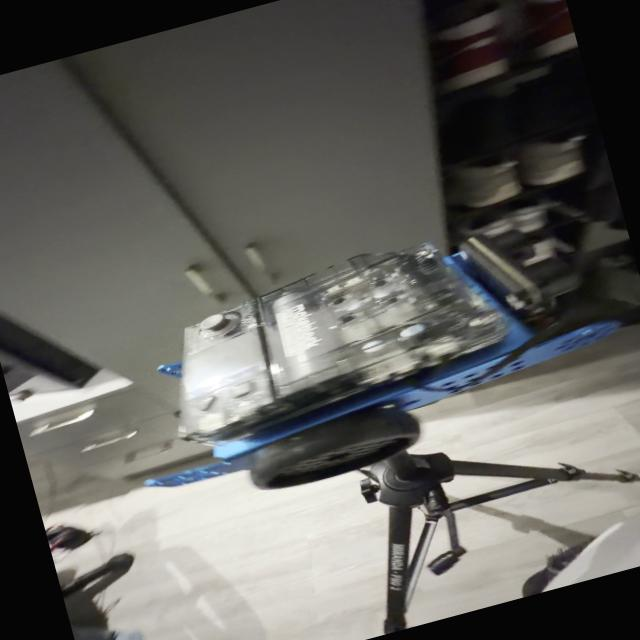mbot-detection: (87, 185, 640, 531)
